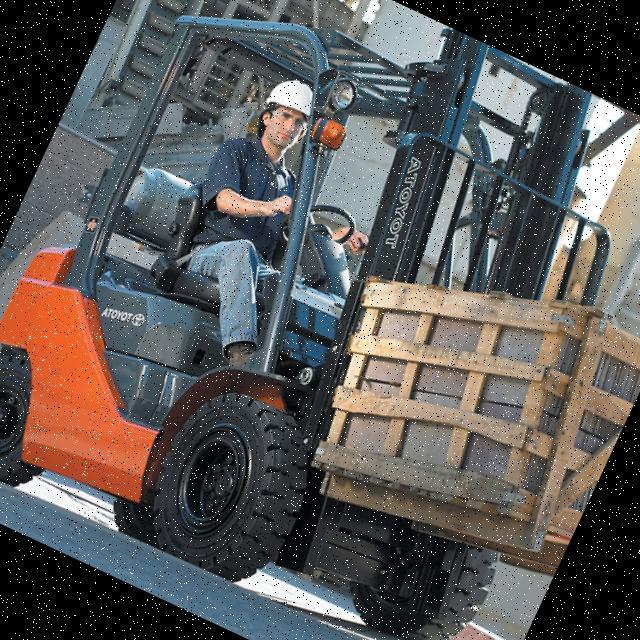Person: (136, 60, 417, 397)
